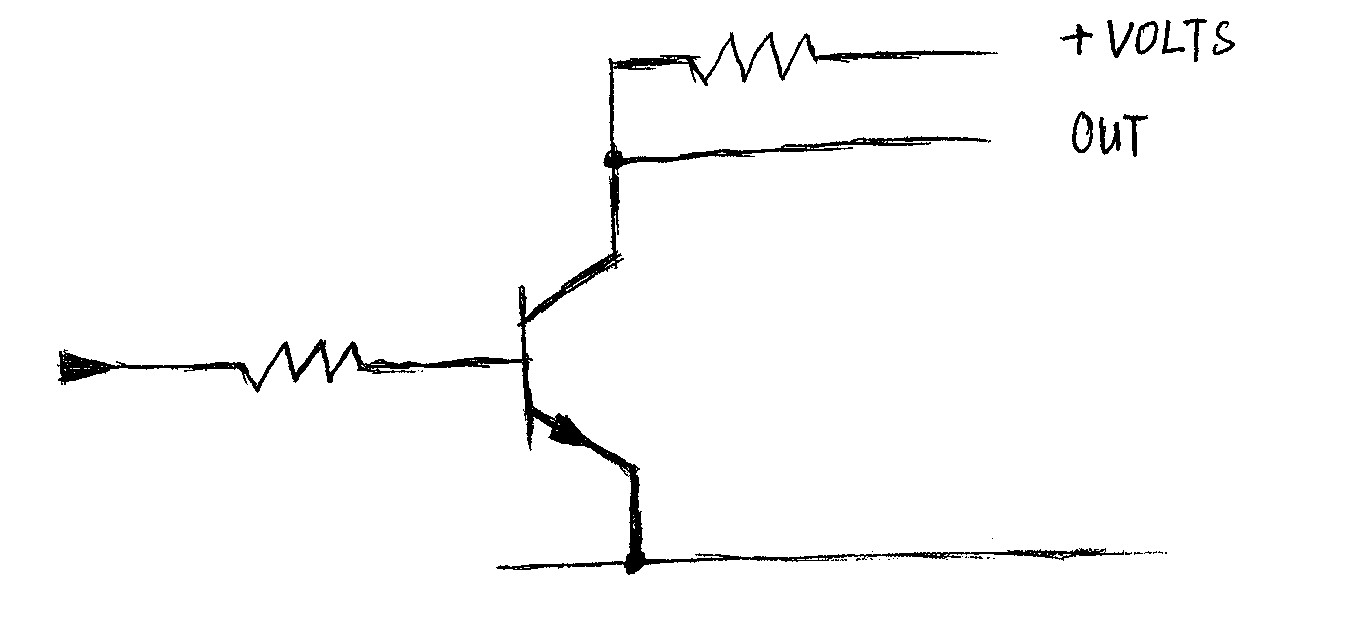junction: (608, 535, 667, 586), (591, 132, 638, 182), (601, 49, 629, 79)
resistor: (223, 330, 388, 399), (674, 24, 830, 91)
terminal: (48, 332, 124, 392), (1150, 542, 1178, 566), (971, 130, 997, 153), (979, 42, 1001, 67), (488, 557, 509, 578)
text: (1104, 7, 1239, 66), (1067, 103, 1150, 166), (1060, 14, 1098, 60)
transistor.bjt: (508, 235, 661, 486)
